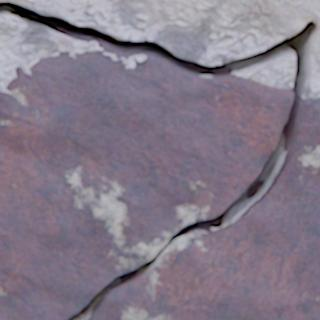broken_brick: (0, 39, 293, 319), (87, 96, 319, 319)
crack: (0, 1, 319, 319)
